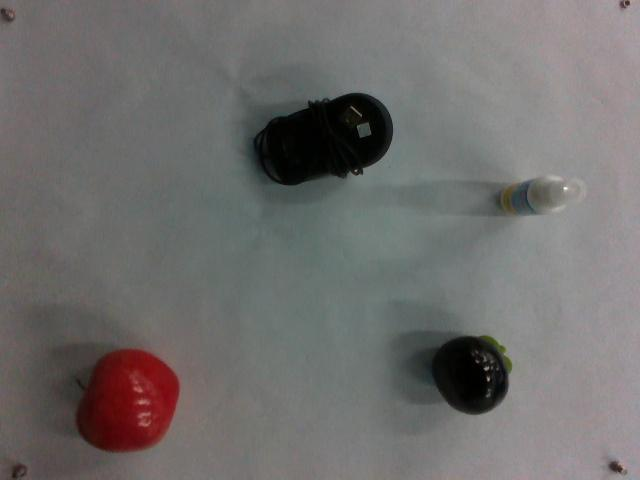apple: (71, 345, 181, 455)
detergent: (500, 166, 588, 220)
mangosteen: (430, 333, 517, 417)
mouse: (254, 91, 396, 189)
